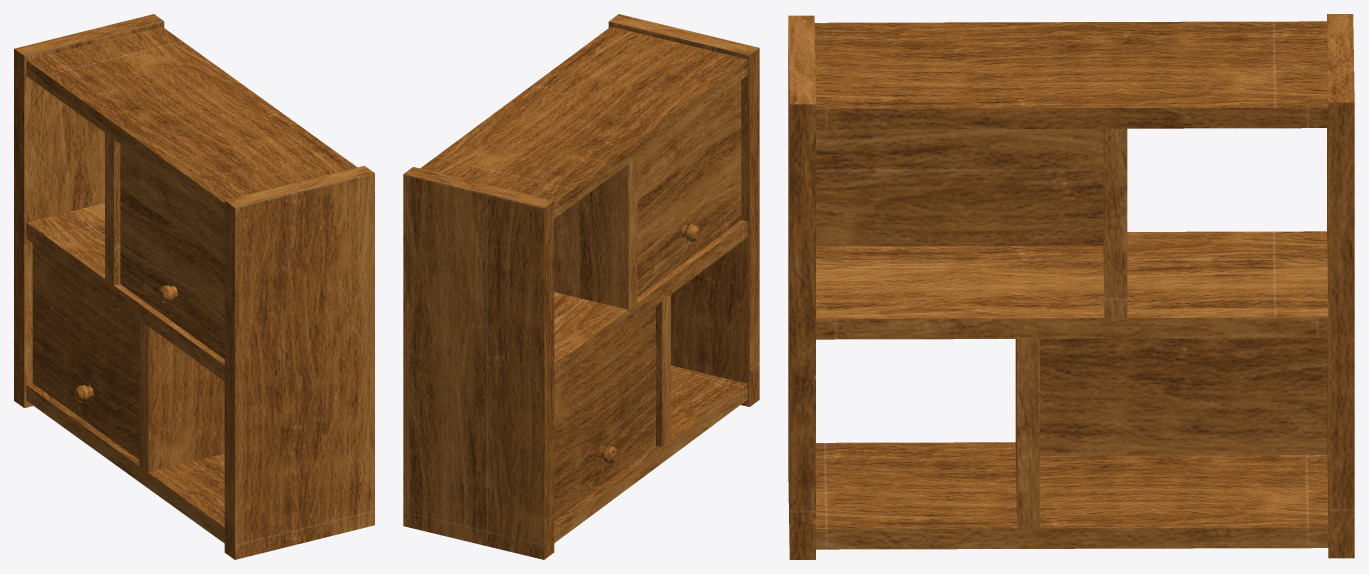
Rendered from cabinet2.fbx.
3 renders of one model, left to right at view 1: azimuth 30°, elevation 25°; view 2: azimuth 150°, elevation 25°; view 3: azimuth 270°, elevation 25°, orthographic. The views are drawn at different scales.
Parts seen in each view (by area): view 1: pCube815.009; view 2: pCube815.009; view 3: pCube815.009.
Part boxes in pixels (x1,y1,x2,y2): pCube815.009: [14, 14, 374, 559]; pCube815.009: [403, 14, 759, 559]; pCube815.009: [788, 14, 1354, 559].
Bounding box in the file's own units: 0.5272 × 1.2 × 1.35.
Materials: 1 (1 with a texture image).
